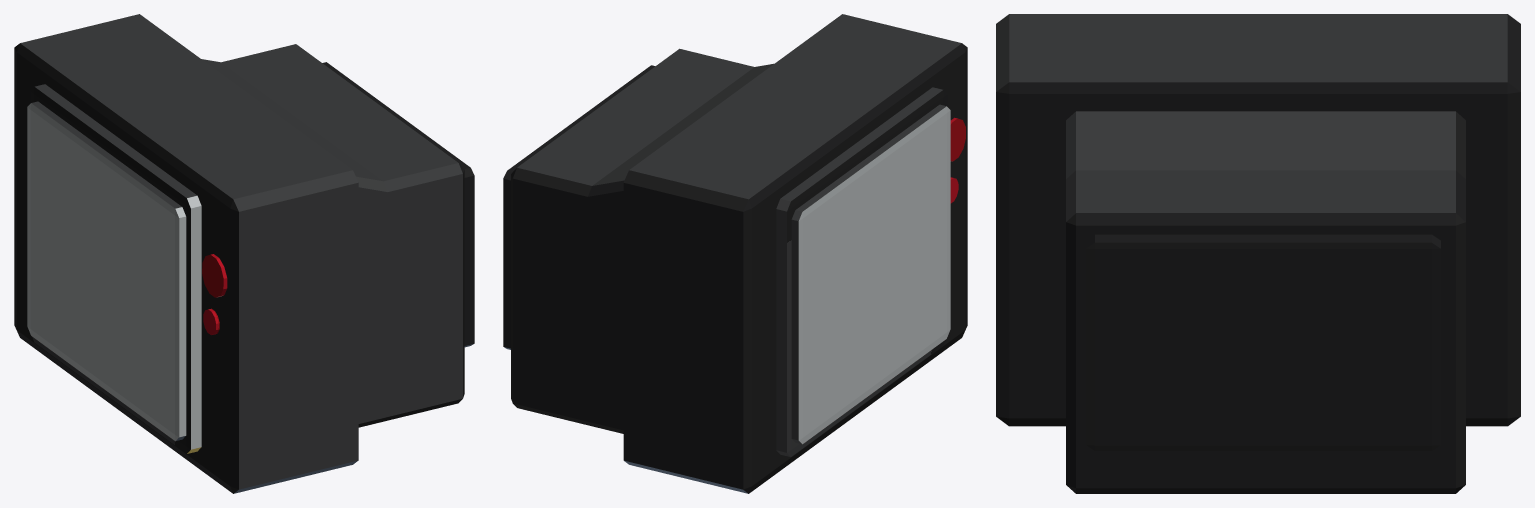
The model's file is television.gltf.
3 renders of one model, left to right at view 1: azimuth 30°, elevation 25°; view 2: azimuth 150°, elevation 25°; view 3: azimuth 270°, elevation 25°, orthographic. The views are drawn at different scales.
Parts seen in each view (by area): view 1: beveled_cuboid (×5), cylinder; view 2: beveled_cuboid (×5), cylinder; view 3: beveled_cuboid (×3).
Boxes of the visible parts, x1=… form: beveled_cuboid (×5): x1=14, y1=14, x2=474, y2=493; cylinder: x1=202, y1=254, x2=227, y2=297; beveled_cuboid (×5): x1=503, y1=14, x2=967, y2=493; cylinder: x1=950, y1=117, x2=965, y2=161; beveled_cuboid (×3): x1=996, y1=14, x2=1520, y2=493.
Size of the model in its own units: 0.5 by 0.475 by 0.6562.
Materials: 2 (2 with a texture image).
